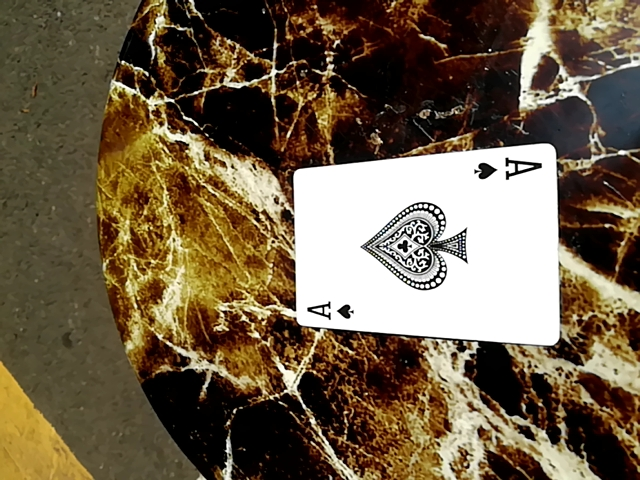ht a: (289, 143, 565, 346)
